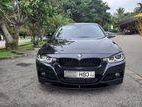car: (30, 21, 128, 93)
